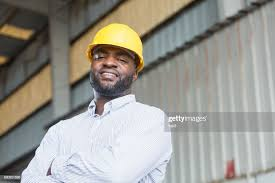Person_wearing_helmet: (81, 21, 151, 72)
